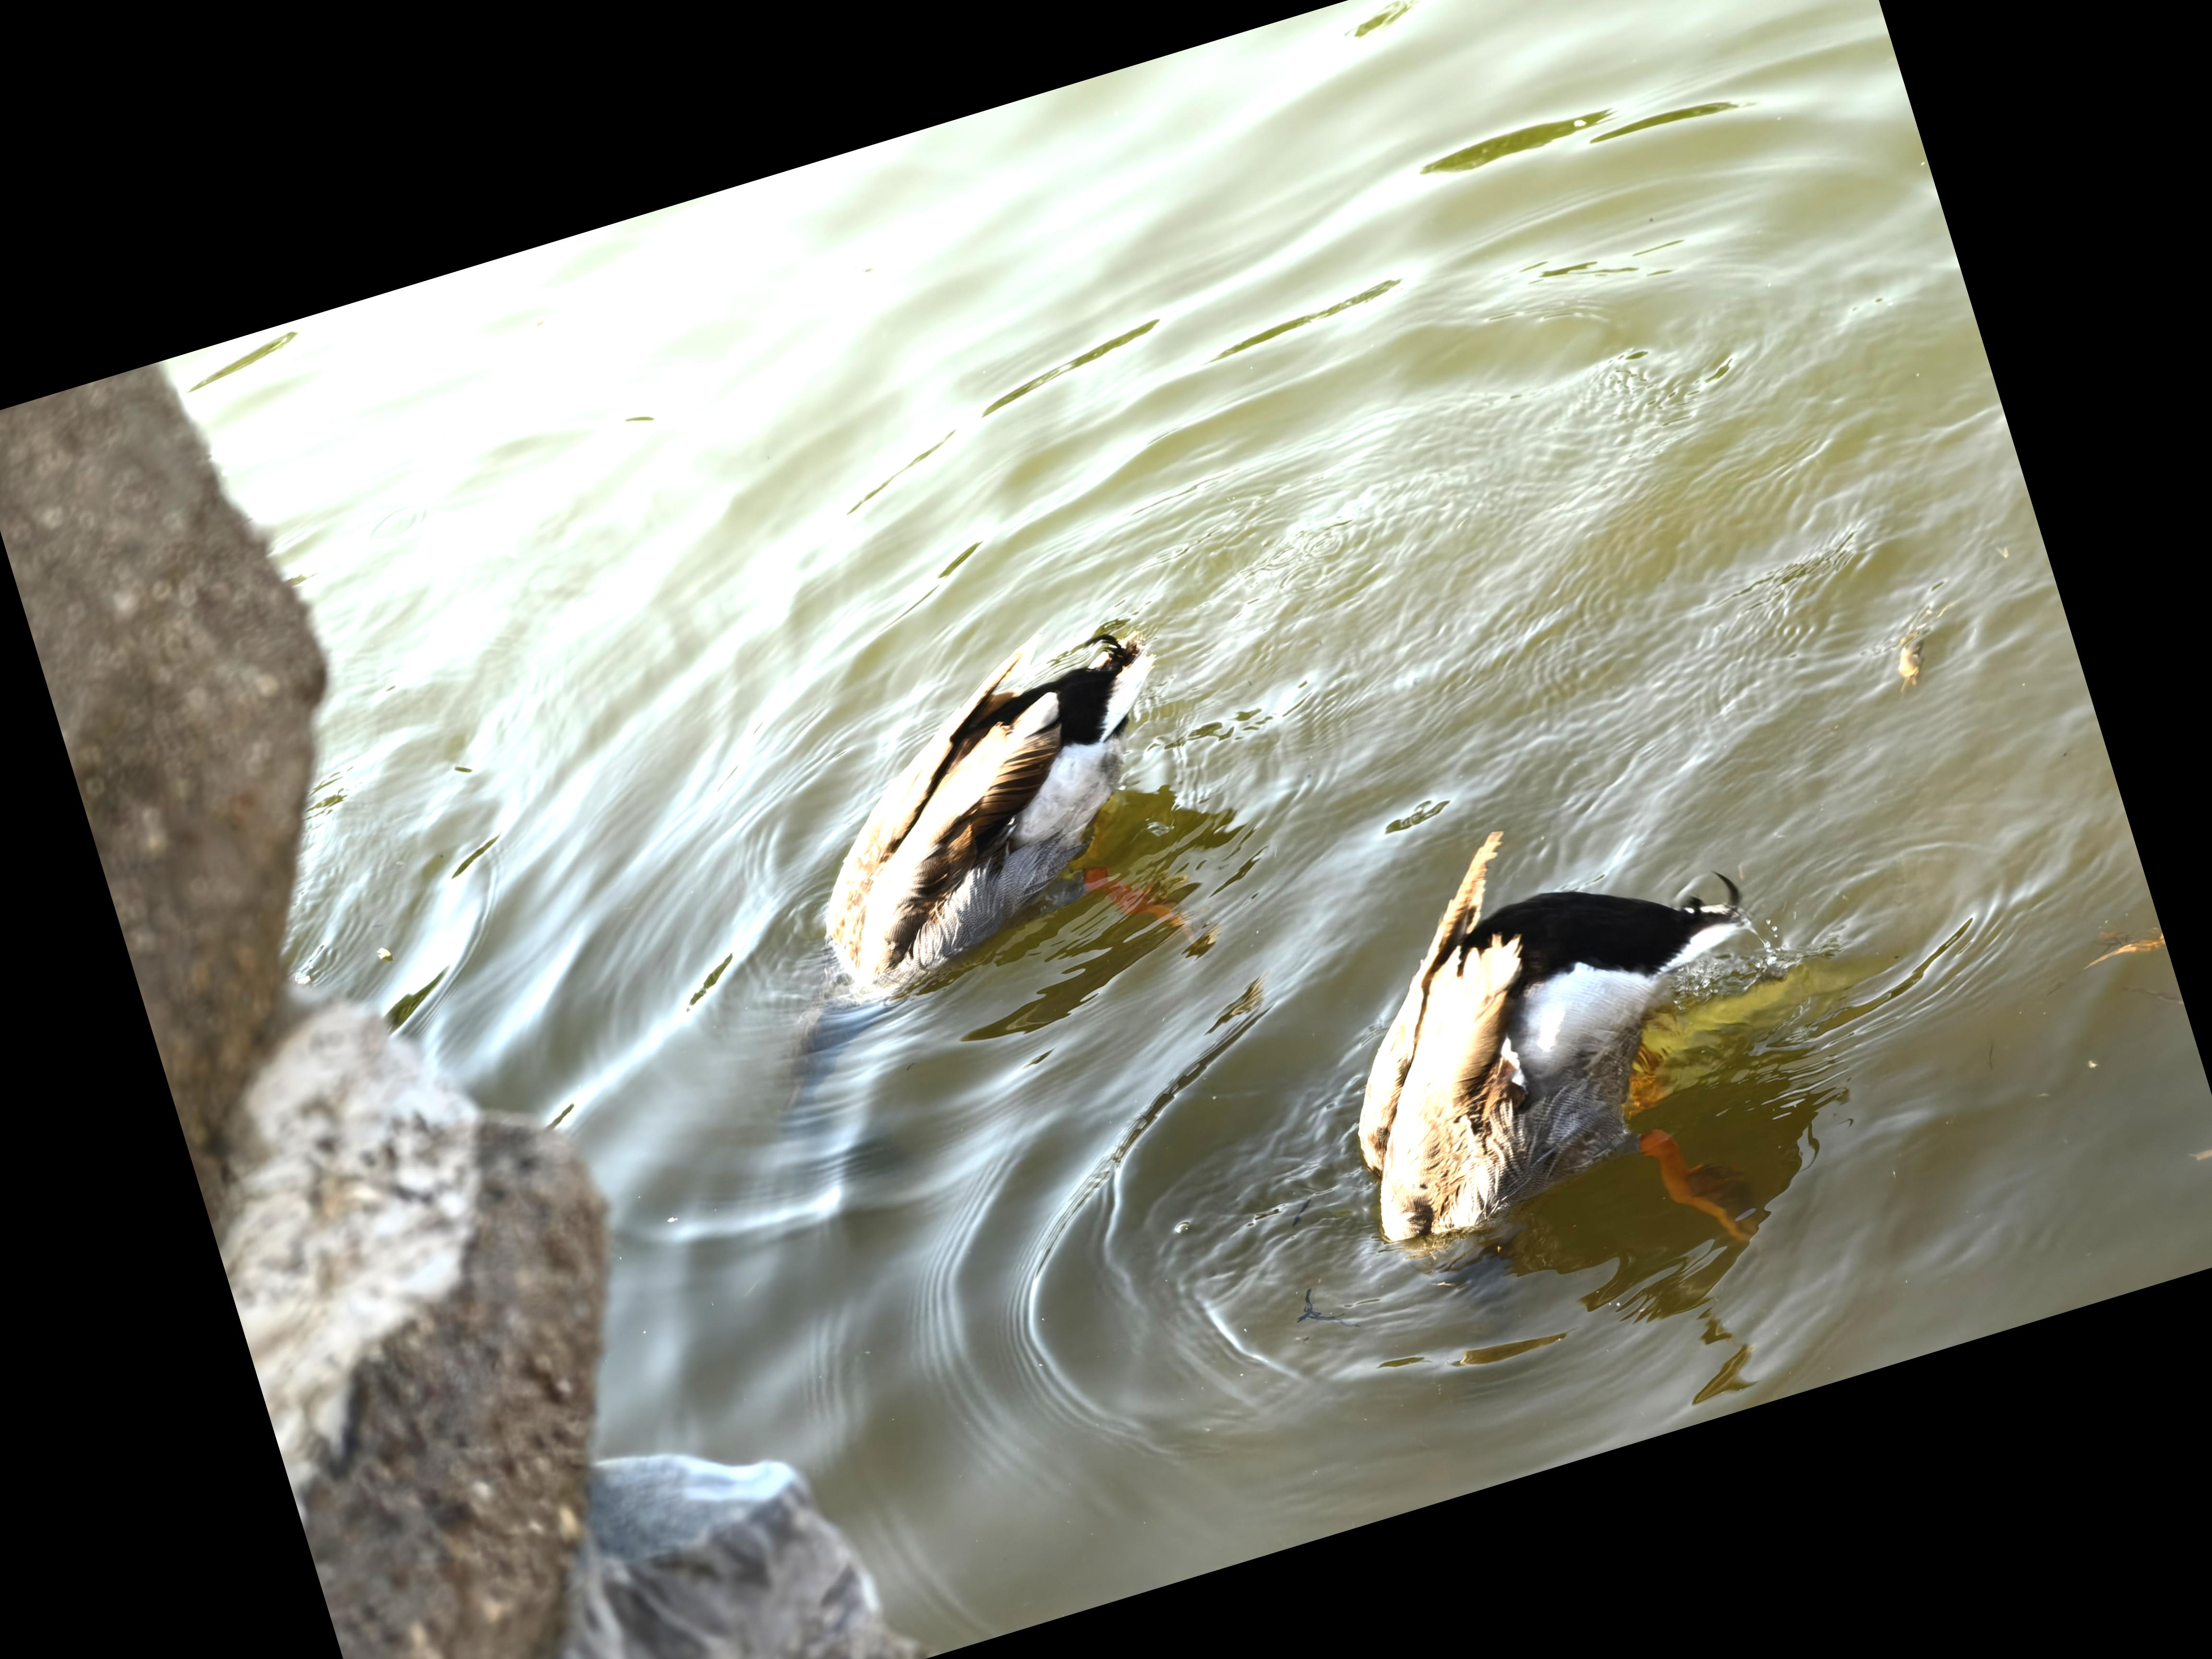duck: (1197, 721, 1897, 1356), (725, 570, 1261, 1023)
